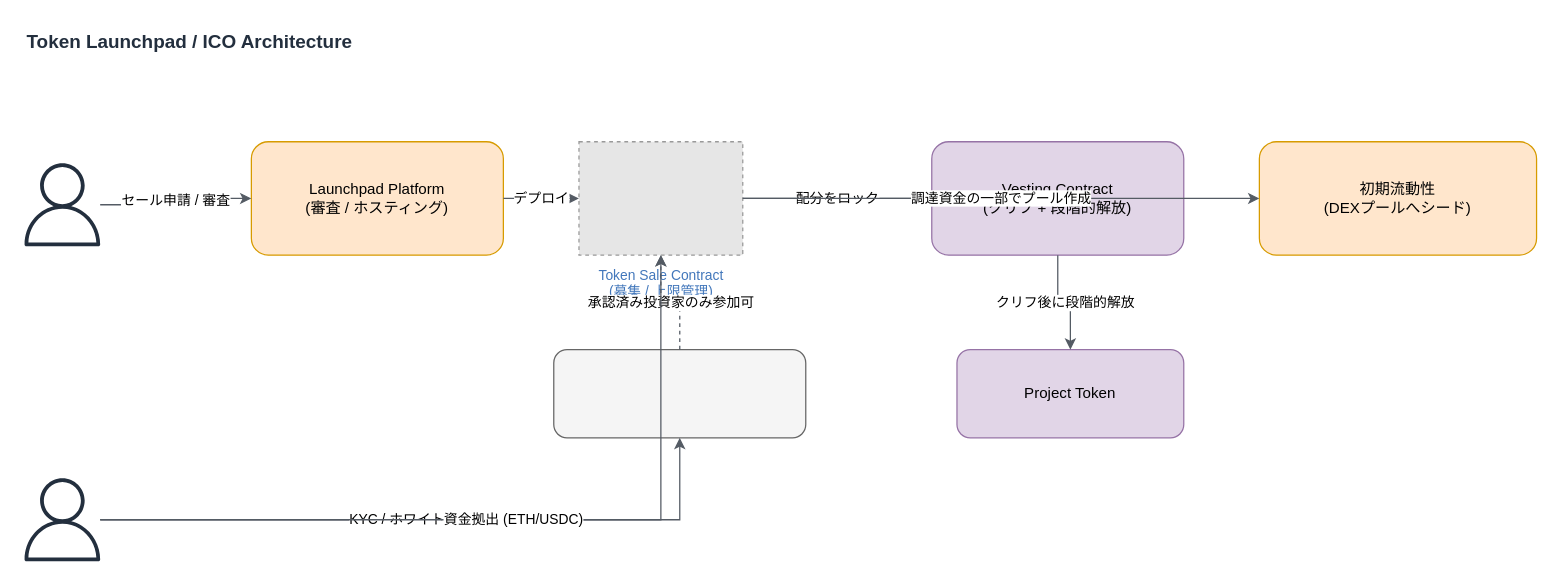
The diagram is 1559 pixels wide and 585 high, and some of its shapes have lost their labels. Grey dashed boxes stand in for pictures. The shapes that lost their labels are listed below. From the top down, each one's centre as x and y in pixels, then its label:
[62,204]: Project Team
[679,393]: Whitelist / KYC
[62,519]: Investor
